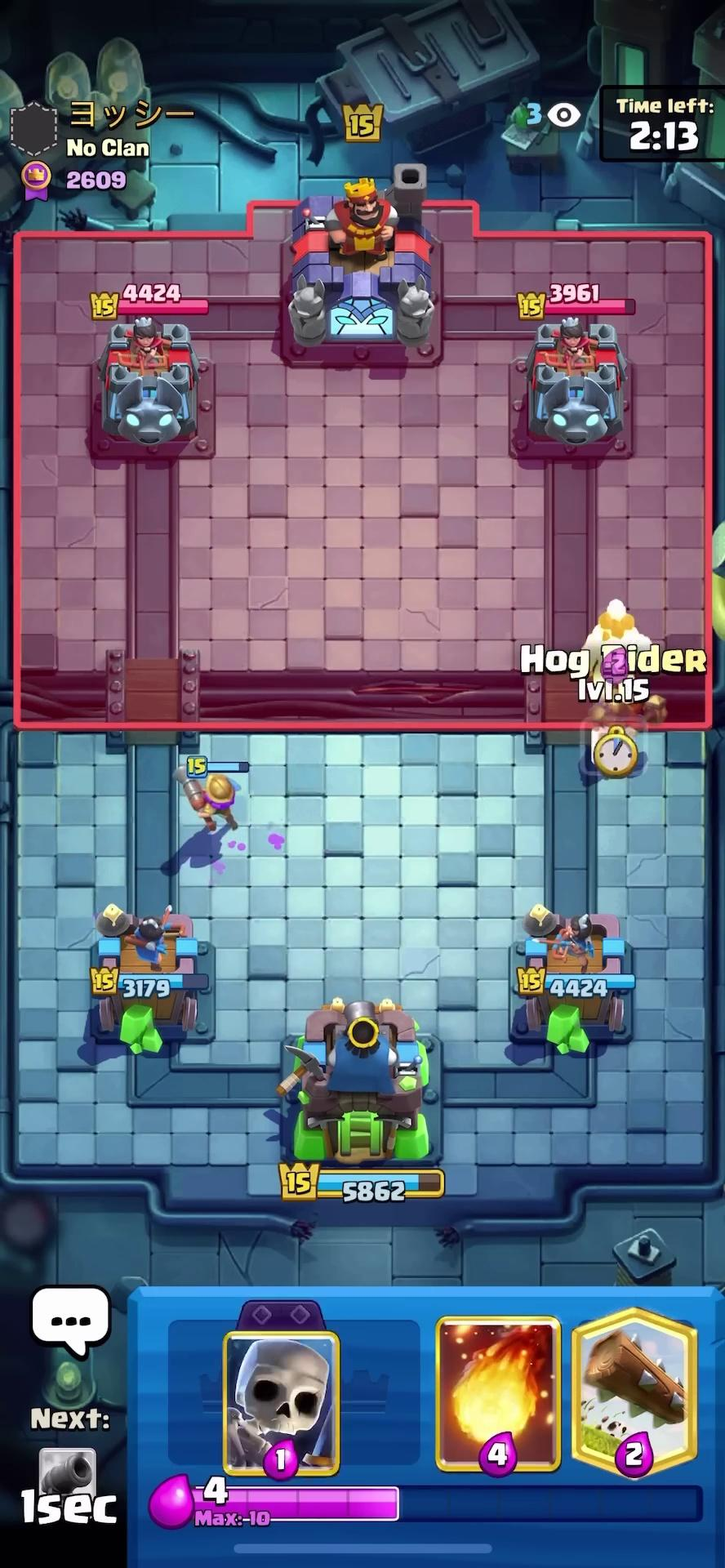ice_golem: (574, 596, 655, 682)
musketeer: (163, 751, 261, 841)
